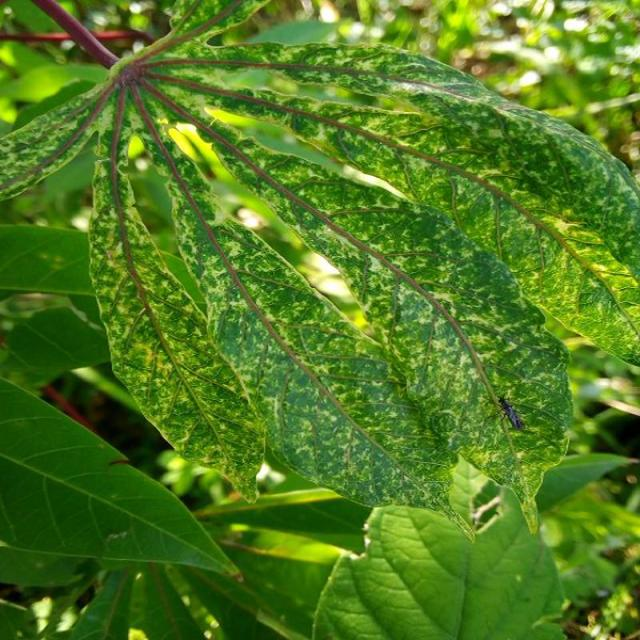cassava leaf: (1, 1, 638, 542)
